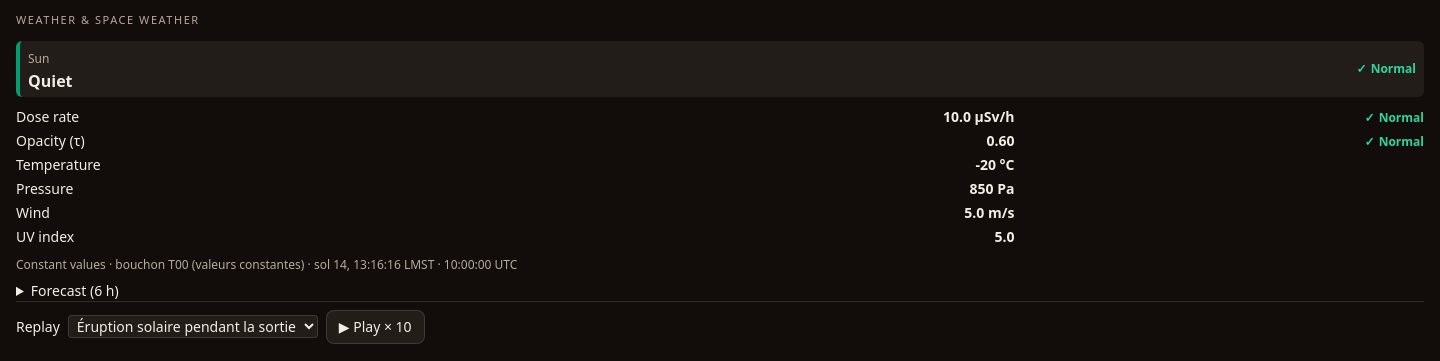
météo et météo spatiale › lance un scénario
This screenshot has width=1440, height=361.
Click the button "▶ Play × 10": (375, 326) [326,310,425,344]
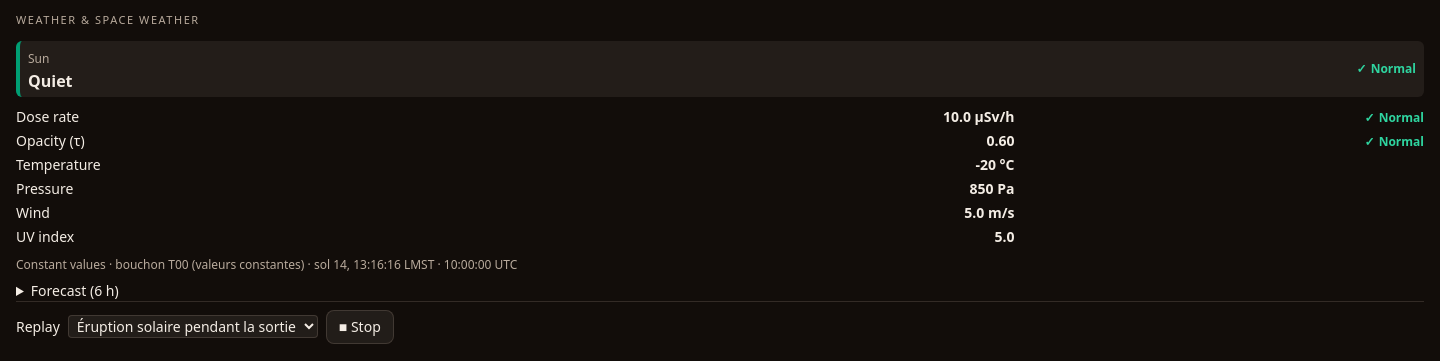
Check: the button "■ Stop" is shown, box [326,310,394,344]
